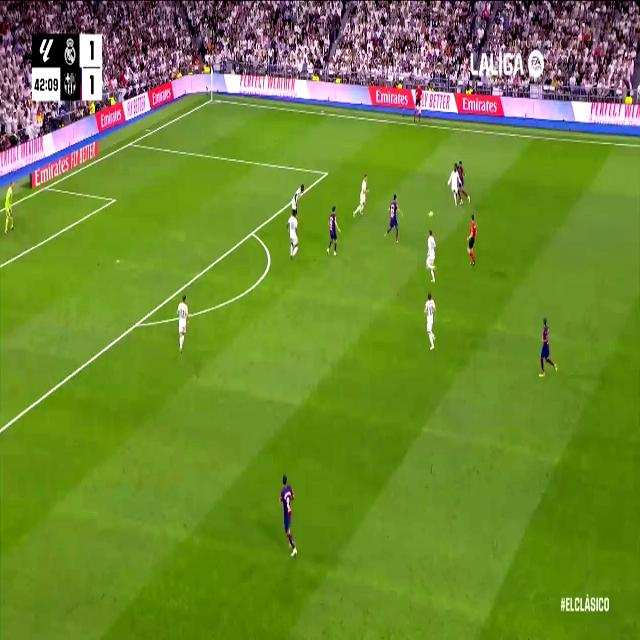bigarea_top_inner: (322, 164, 329, 180)
bigarea_top_outter: (127, 135, 135, 149)
bottom_arc_area_intersection: (132, 311, 144, 333)
corner: (207, 93, 217, 104)
smallarea_top_inner: (110, 192, 117, 206)
top_arc_area_intersection: (248, 222, 256, 241)
